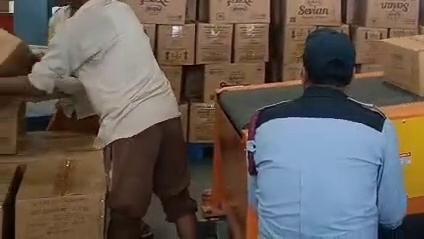box: (14, 158, 107, 238), (0, 131, 104, 173), (271, 25, 349, 64), (379, 35, 423, 96), (203, 63, 264, 102), (273, 25, 317, 64), (0, 164, 23, 238), (0, 29, 36, 76), (156, 24, 196, 66), (194, 23, 234, 65), (0, 98, 26, 154), (350, 26, 388, 64), (232, 23, 269, 62), (187, 103, 215, 143), (160, 65, 182, 100), (279, 62, 303, 81), (178, 103, 188, 140), (142, 24, 155, 51), (388, 28, 418, 37)
